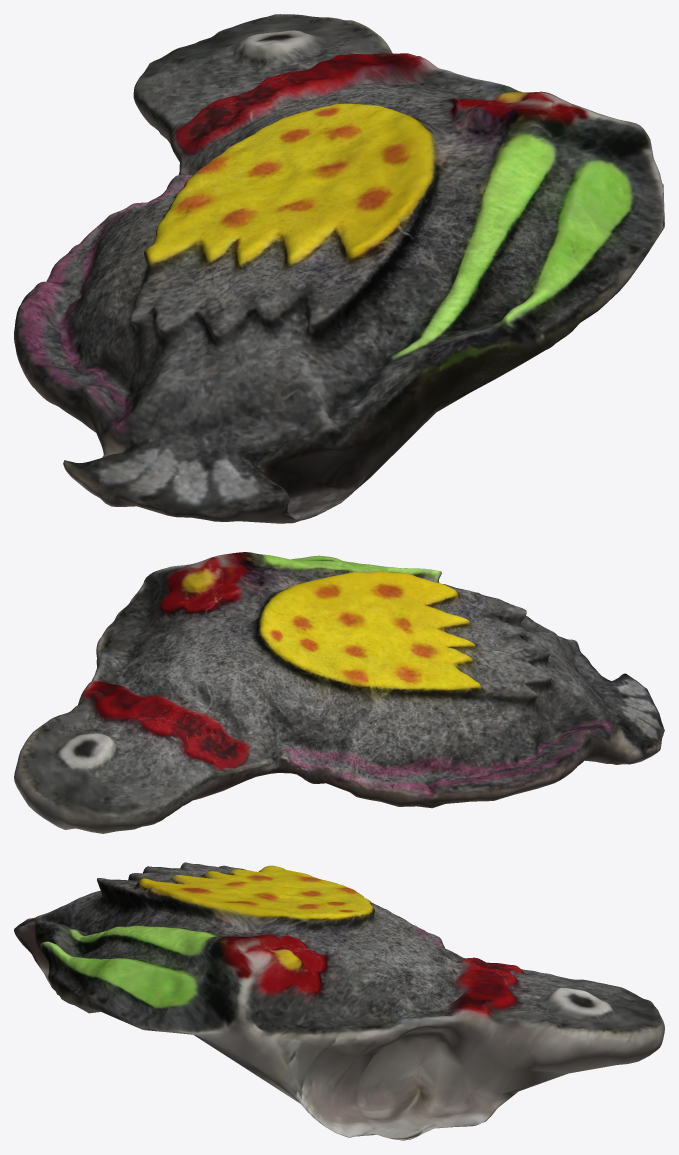
3 views of the same model, one above another, from view 1: azimuth 30°, elevation 25°; view 2: azimuth 150°, elevation 25°; view 3: azimuth 270°, elevation 25° (orthographic). The views are drawn at different scales.
Bounding box in the file's own units: 0.7927 × 0.2721 × 0.8975.
1 material, 1 textured.
